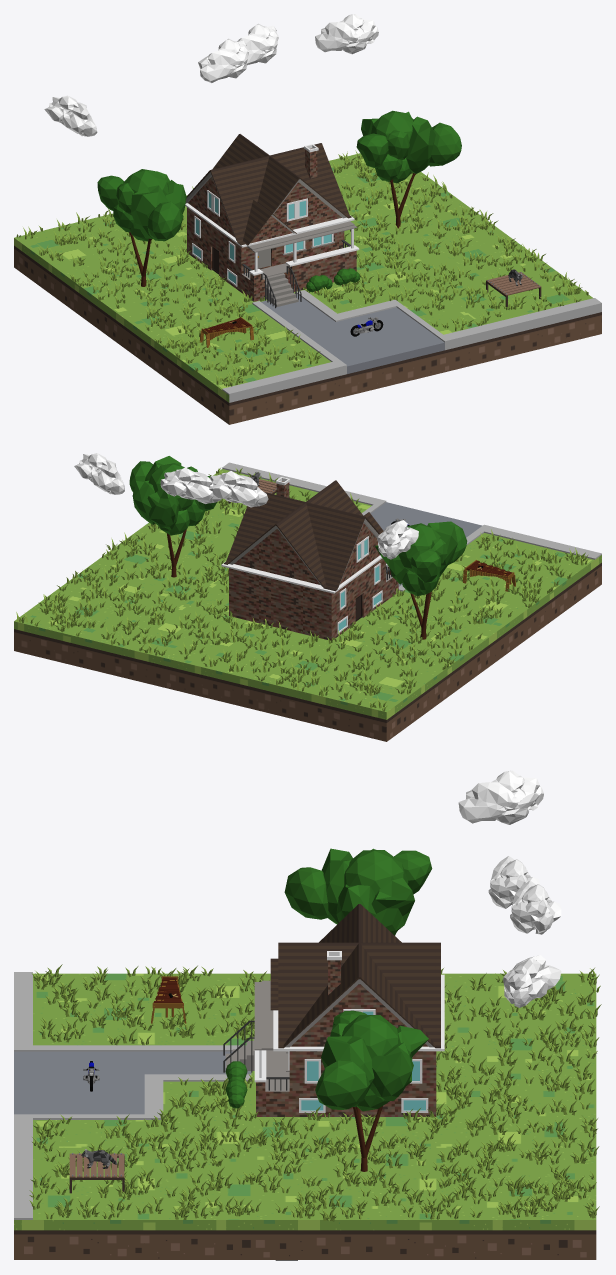
The picture shows the model from 3 angles, top to bottom: view 1: azimuth 30°, elevation 25°; view 2: azimuth 150°, elevation 25°; view 3: azimuth 270°, elevation 25°; orthographic projection. The views are drawn at different scales.
Visible parts, largest first — view 1: Cube.006, Cube.117, Circle.012_Grass_0.192, Cube.007, tree, tree.001, Cube.009, OBJRANDOM_MARIMBA; view 2: Cube.006, Cube.117, Circle.012_Grass_0.192, Cube.007, tree.001, tree, OBJRANDOM_MARIMBA; view 3: Cube.006, Circle.012_Grass_0.192, Cube.117, tree, Cube.007, tree.001, Cube.009, OBJRANDOM_MARIMBA.
Boxes of the visible parts, x1,y1,x2,y2 form: Cube.006: (14, 153, 601, 424); Cube.117: (185, 134, 359, 308); Circle.012_Grass_0.192: (16, 150, 588, 386); Cube.007: (44, 14, 378, 136); tree: (356, 110, 461, 228); tree.001: (97, 169, 186, 286); Cube.009: (486, 272, 541, 306); OBJRANDOM_MARIMBA: (200, 316, 253, 347); Cube.006: (14, 462, 601, 741); Cube.117: (221, 477, 398, 640); Circle.012_Grass_0.192: (16, 468, 588, 711); Cube.007: (74, 453, 418, 559); tree.001: (375, 521, 467, 639); tree: (129, 456, 216, 577); OBJRANDOM_MARIMBA: (463, 560, 515, 591); Cube.006: (14, 972, 596, 1259); Circle.012_Grass_0.192: (29, 964, 601, 1221); Cube.117: (223, 904, 444, 1116); tree: (315, 1010, 428, 1171); Cube.007: (458, 770, 561, 1007); tree.001: (284, 848, 432, 935); Cube.009: (69, 1153, 124, 1193); OBJRANDOM_MARIMBA: (151, 976, 186, 1023).
Size of the model in its own units: 4071 by 2184 by 4040.
Materials: 32 (4 with a texture image).
